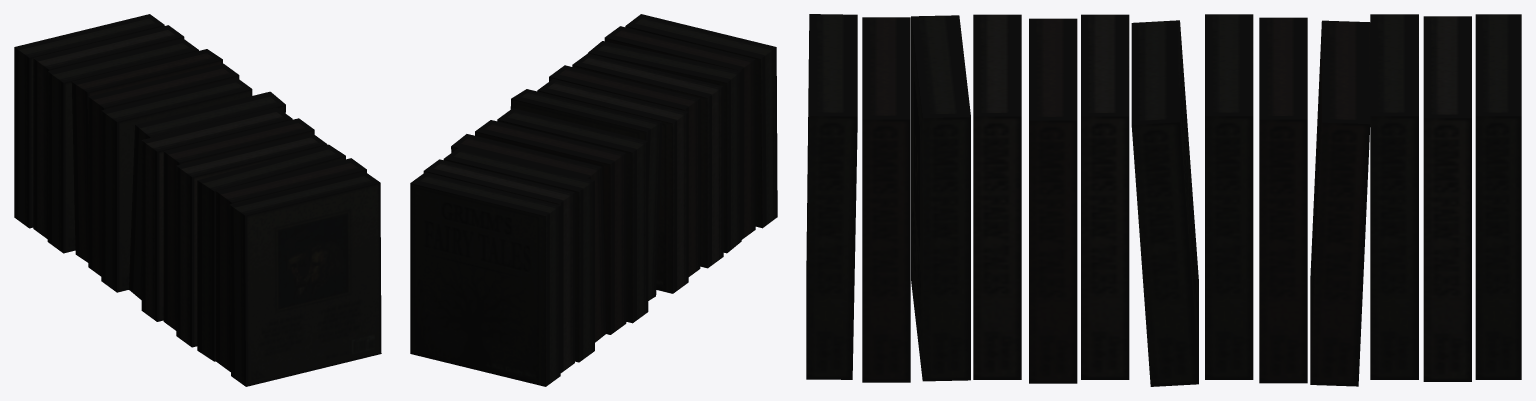
Rendered from accessories_book_row04_lod0.glb.
3 views of the same model, side by side, from view 1: azimuth 30°, elevation 25°; view 2: azimuth 150°, elevation 25°; view 3: azimuth 270°, elevation 25° (orthographic). The views are drawn at different scales.
Visible parts, largest first — view 1: surf0; view 2: surf0; view 3: surf0.
Part boxes in pixels (bbox=[...]): surf0: bbox=[14, 14, 381, 386]; surf0: bbox=[410, 14, 777, 386]; surf0: bbox=[806, 14, 1521, 386].
Size of the model in its own units: 10.7 by 12.09 by 29.53.
